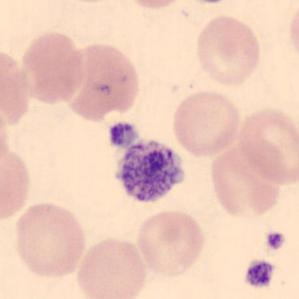Basophil: (104, 131, 193, 214)
Lymphocyte: (105, 120, 192, 214)
Platelets: (242, 258, 276, 289), (106, 119, 138, 150), (263, 230, 287, 252)
RBC: (59, 40, 143, 123), (11, 198, 89, 280), (206, 143, 286, 220), (192, 12, 263, 89), (17, 28, 87, 106), (168, 88, 244, 158), (235, 104, 298, 187), (134, 208, 207, 278), (73, 234, 149, 299), (0, 140, 34, 226), (0, 44, 33, 130), (0, 102, 13, 174), (285, 1, 299, 63), (124, 0, 190, 11)
